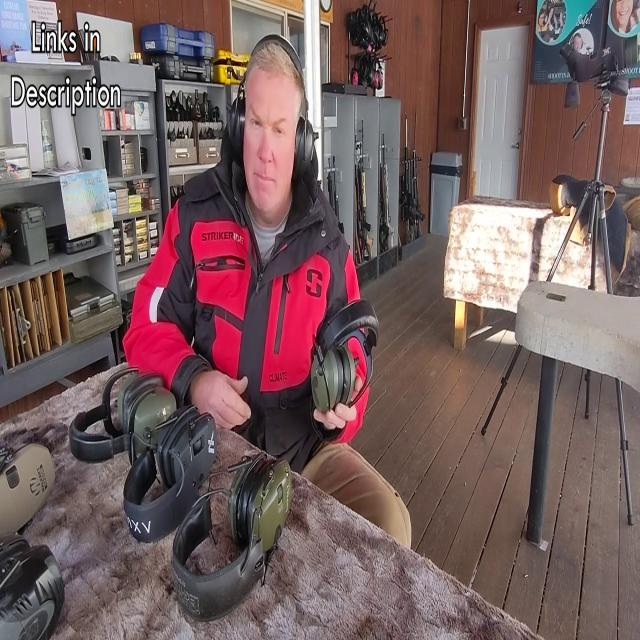earmuff: (291, 116, 319, 186), (225, 90, 247, 154)
